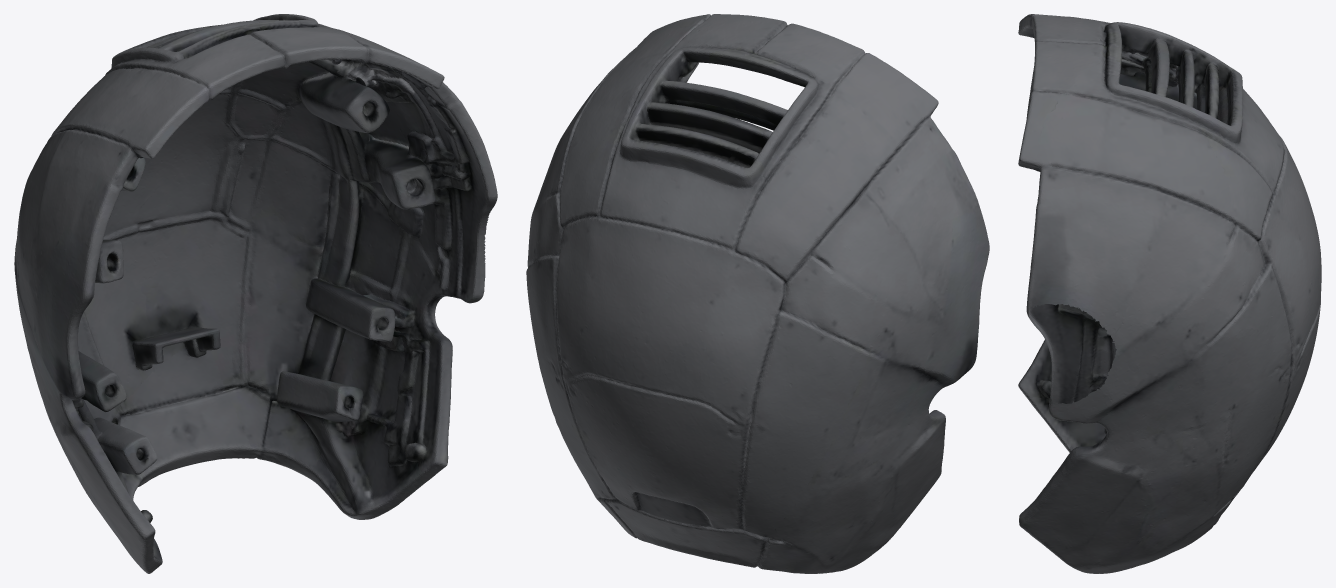
3 renders of one model, left to right at view 1: azimuth 30°, elevation 25°; view 2: azimuth 150°, elevation 25°; view 3: azimuth 270°, elevation 25°, orthographic. The views are drawn at different scales.
Parts seen in each view (by area): view 1: Meshy_AI_Kalki_V0_Rear_Head_Sh_0907144415_texture.glb; view 2: Meshy_AI_Kalki_V0_Rear_Head_Sh_0907144415_texture.glb; view 3: Meshy_AI_Kalki_V0_Rear_Head_Sh_0907144415_texture.glb.
Boxes of the visible parts, x1=… form: Meshy_AI_Kalki_V0_Rear_Head_Sh_0907144415_texture.glb: x1=14, y1=14, x2=497, y2=573; Meshy_AI_Kalki_V0_Rear_Head_Sh_0907144415_texture.glb: x1=526, y1=14, x2=989, y2=573; Meshy_AI_Kalki_V0_Rear_Head_Sh_0907144415_texture.glb: x1=1018, y1=14, x2=1321, y2=573.
Bounding box in the file's own units: 0.4499 × 0.5322 × 0.3004.
Materials: 1 (1 with a texture image).
